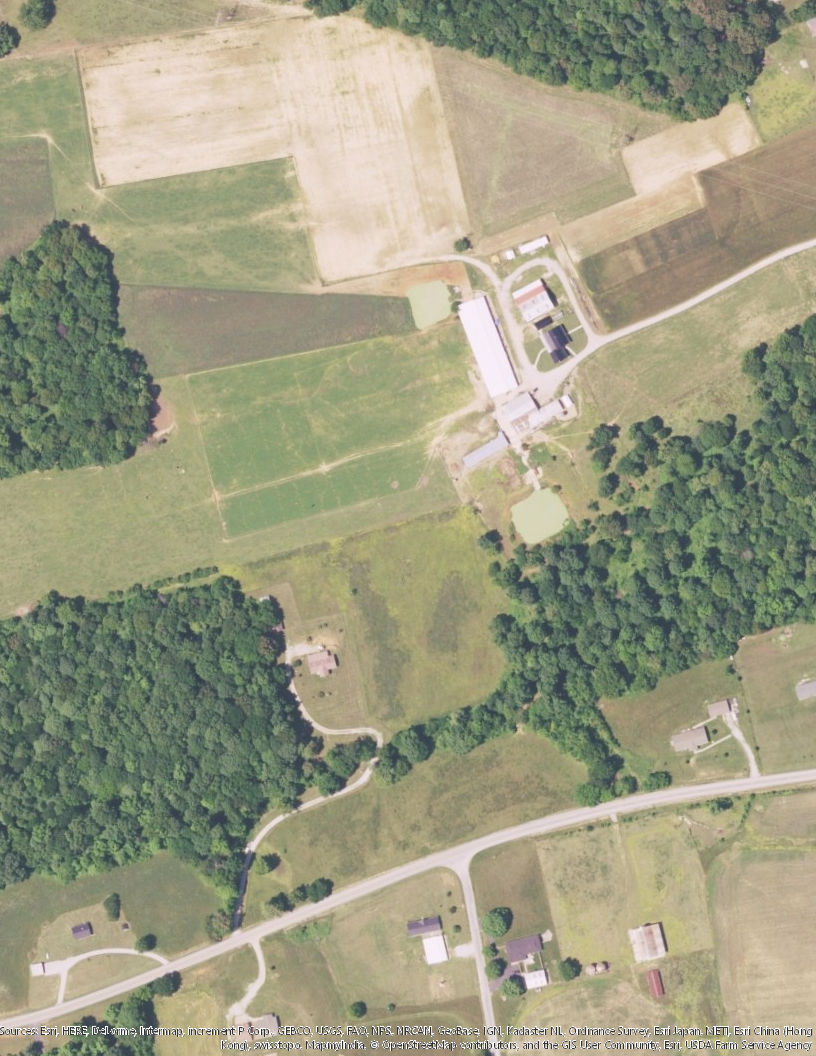cafo: (452, 289, 531, 397), (459, 431, 518, 474), (523, 398, 569, 434), (499, 391, 544, 426)
